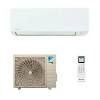ac: (8, 5, 93, 42)
